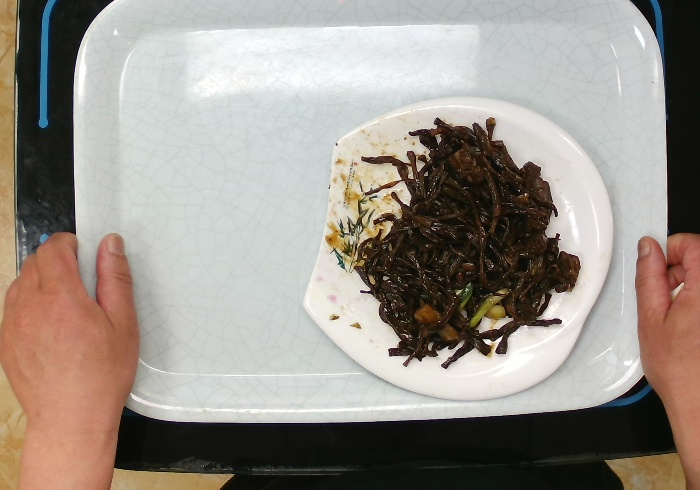JYsf-Mian_Pan: (298, 92, 617, 405)
